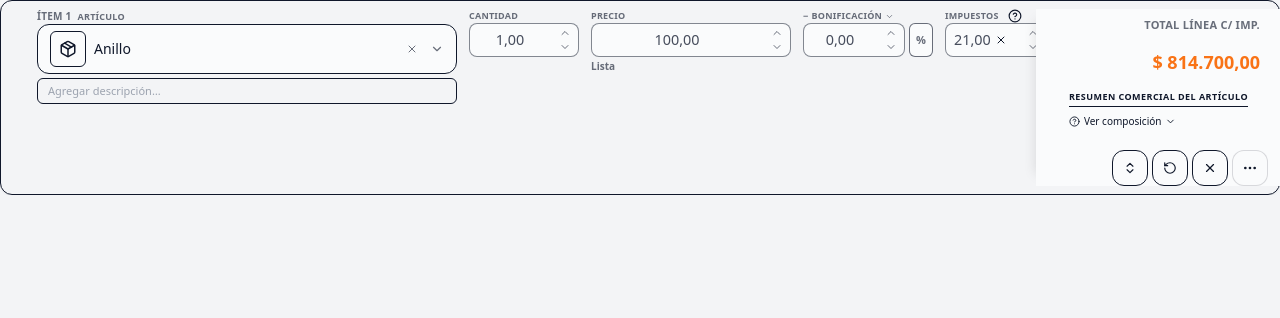
Test: FASE 1 — Resumen Comercial lee lineCommercialSummary › UNIFIED: el resumen comercial (METALES + MONETARIO) vive DETRÁS de 'Ver detalle'; al expandir, MONETARIO correcto (242.356, no 814.700)
# Expandir → MONETARIO correcto (242.356, no 814.700) + valor comercial del metal.
Click the button "Ver composición" at [1123, 122], box [1069,115,1176,128]
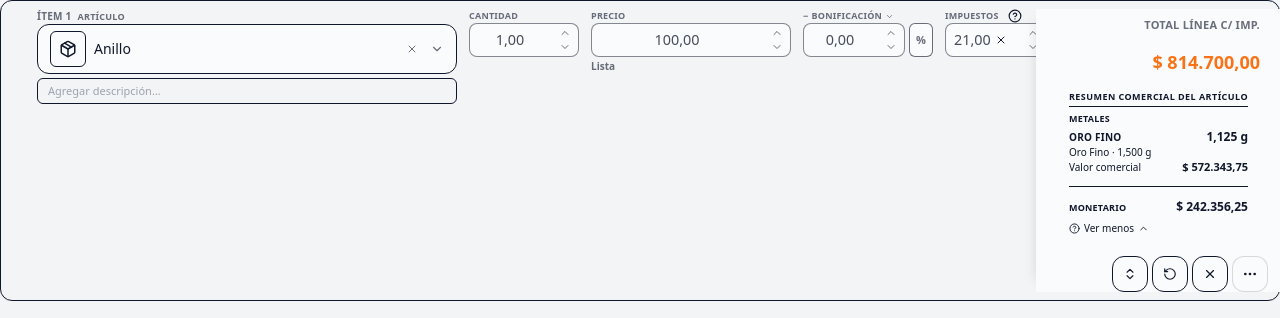
Expected: the text "$ 242.356,25" is shown, [1176,199,1248,214]
